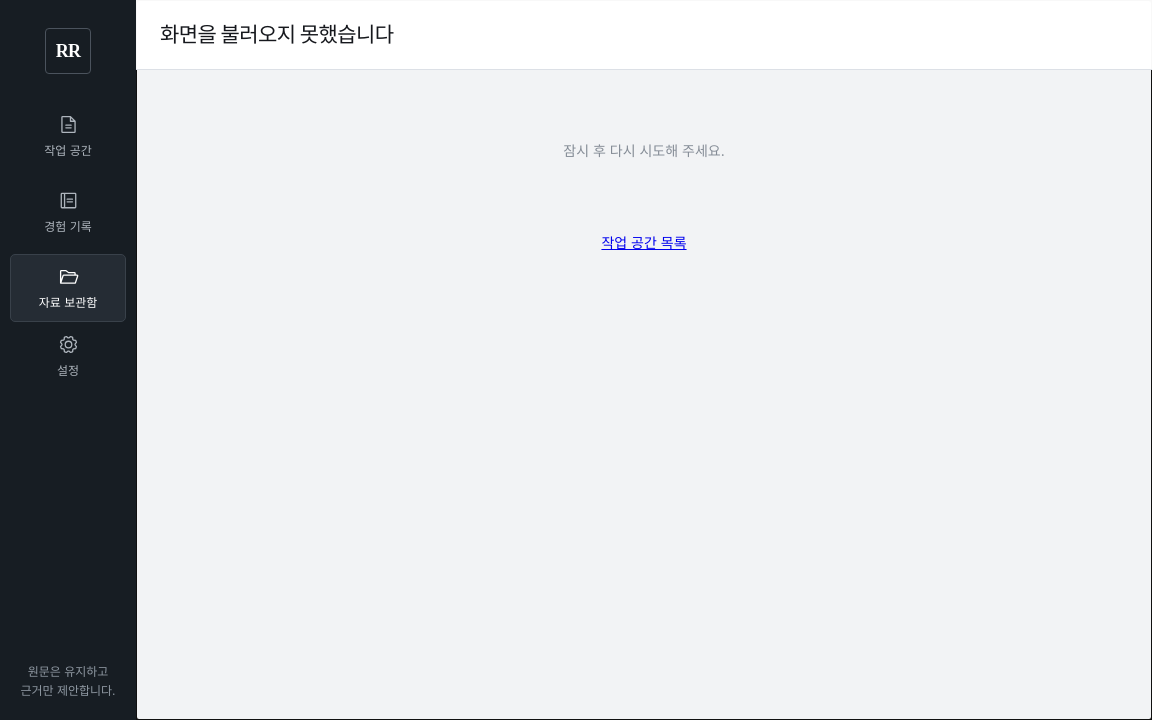
Scenario: announces route errors and recovers through the workspace link
Check: the heading "화면을 불러오지 못했습니다" is shown, box x1=160 y1=19 x2=393 y2=50
What coordinates should you click on to do the following:
click the link "작업 공간 목록"
I would click on:
 (644, 243)
Its box is x1=601 y1=231 x2=687 y2=255.
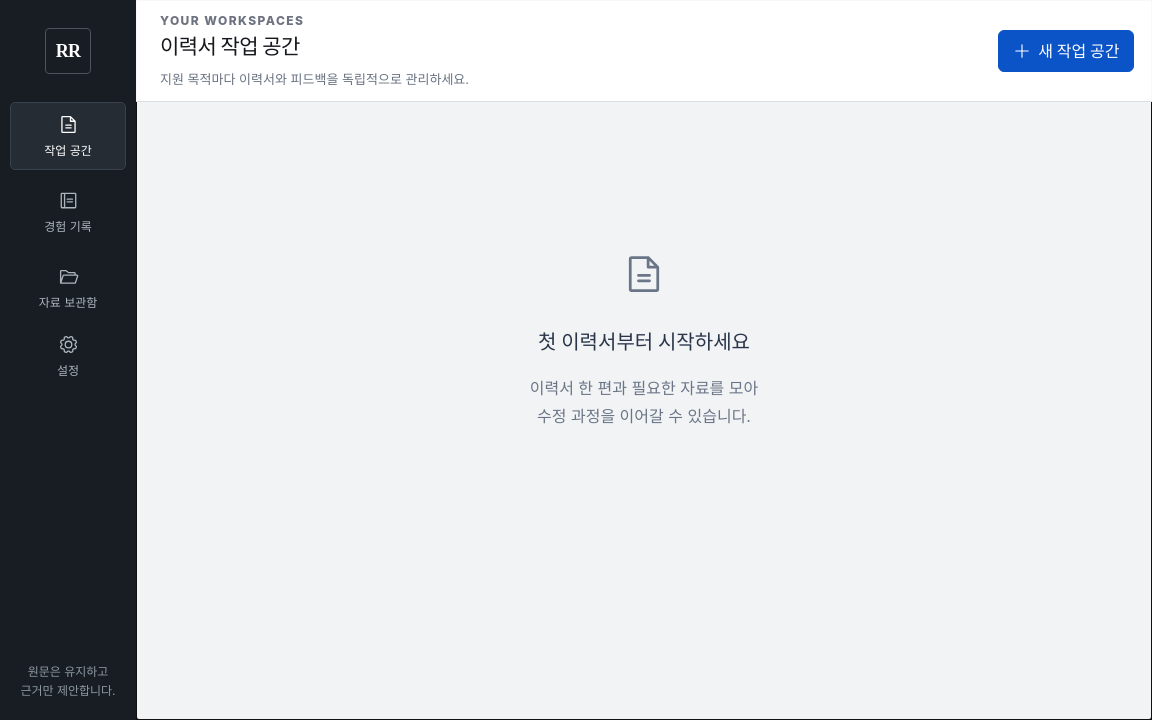
Check: the heading "이력서 작업 공간" is shown, box x1=160 y1=34 x2=300 y2=59
